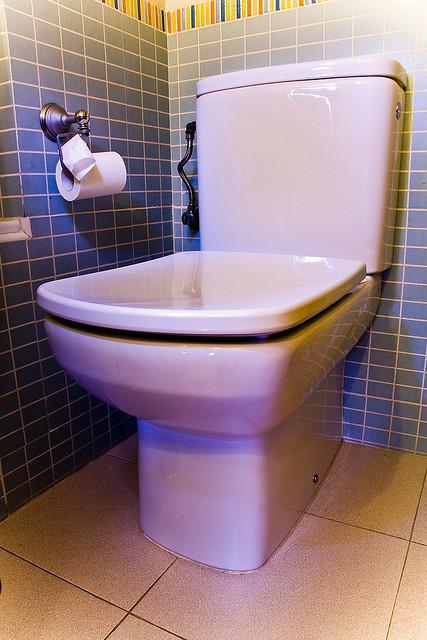Sanitario: (25, 40, 421, 590)
